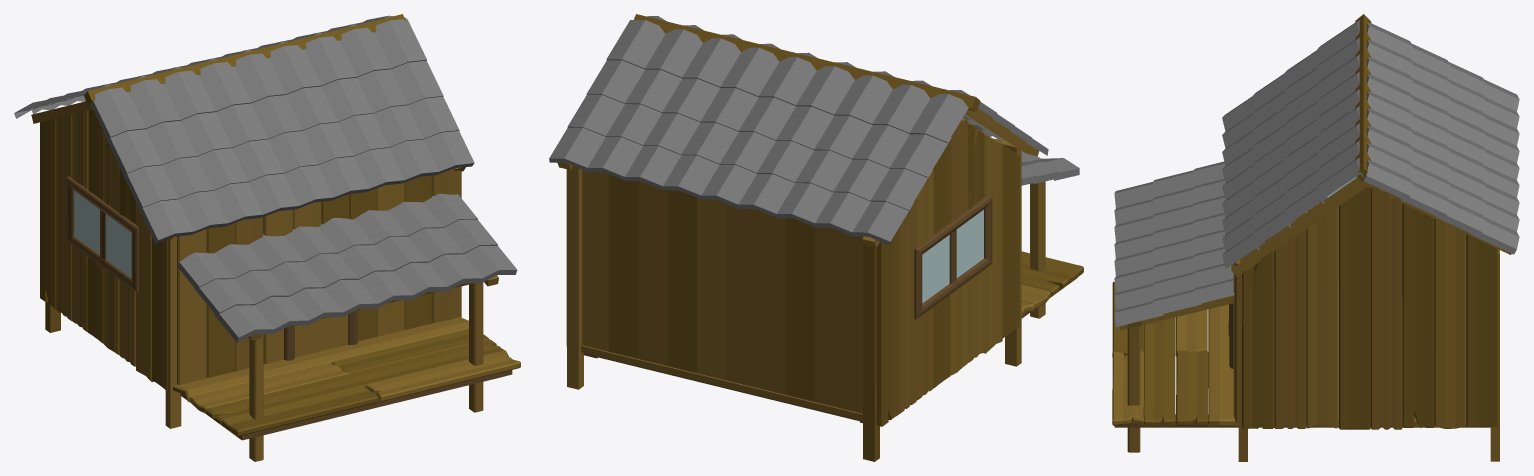
Rendered from casinha1-LowPolyParedeSolta.fbx.
3 views of the same model, side by side, from view 1: azimuth 30°, elevation 25°; view 2: azimuth 150°, elevation 25°; view 3: azimuth 270°, elevation 25° (orthographic). The views are drawn at different scales.
Parts seen in each view (by area): view 1: estrutura, newTelha.036, newTelha.000, newTelha.002, newTelha.001, base.000, newTelha.007, newTelha.008, newTelha.010, janela, newTelha.006; view 2: parede, estrutura, newTelha.006, newTelha.005, newTelha.003, base.000, newTelha.004, janela, chao, newTelha.007, newTelha.036; view 3: estrutura, base.000, newTelha.006, newTelha.036, newTelha.005, newTelha.004, newTelha.003, newTelha.010, newTelha.007, newTelha.000, newTelha.001, newTelha.002 (+1 smaller).
Part boxes in pixels (bbox=[...]): estrutura: bbox=[40, 109, 520, 436]; newTelha.036: bbox=[90, 18, 426, 139]; newTelha.000: bbox=[105, 60, 443, 176]; newTelha.002: bbox=[136, 130, 474, 243]; newTelha.001: bbox=[120, 96, 459, 210]; base.000: bbox=[31, 14, 512, 461]; newTelha.007: bbox=[213, 246, 517, 342]; newTelha.008: bbox=[177, 193, 477, 291]; newTelha.010: bbox=[194, 219, 497, 317]; janela: bbox=[67, 176, 138, 292]; newTelha.006: bbox=[67, 15, 405, 104]; parede: bbox=[582, 169, 862, 413]; estrutura: bbox=[566, 117, 1083, 426]; newTelha.006: bbox=[606, 20, 968, 146]; newTelha.005: bbox=[586, 60, 951, 181]; newTelha.003: bbox=[549, 127, 913, 245]; base.000: bbox=[557, 14, 1077, 461]; newTelha.004: bbox=[567, 94, 932, 213]; janela: bbox=[914, 194, 992, 319]; chao: bbox=[581, 345, 862, 420]; newTelha.007: bbox=[1021, 151, 1079, 180]; newTelha.036: bbox=[634, 16, 997, 119]; estrutura: bbox=[1112, 185, 1498, 429]; base.000: bbox=[1114, 14, 1511, 461]; newTelha.006: bbox=[1363, 23, 1412, 201]; newTelha.036: bbox=[1317, 20, 1363, 204]; newTelha.005: bbox=[1400, 44, 1449, 219]; newTelha.004: bbox=[1436, 61, 1485, 237]; newTelha.003: bbox=[1470, 79, 1519, 254]; newTelha.010: bbox=[1153, 170, 1201, 320]; newTelha.007: bbox=[1114, 182, 1163, 330]; newTelha.000: bbox=[1284, 50, 1327, 228]; newTelha.001: bbox=[1252, 74, 1295, 250]; newTelha.002: bbox=[1222, 96, 1264, 272].
Size of the model in its own units: 607 by 548 by 667.
